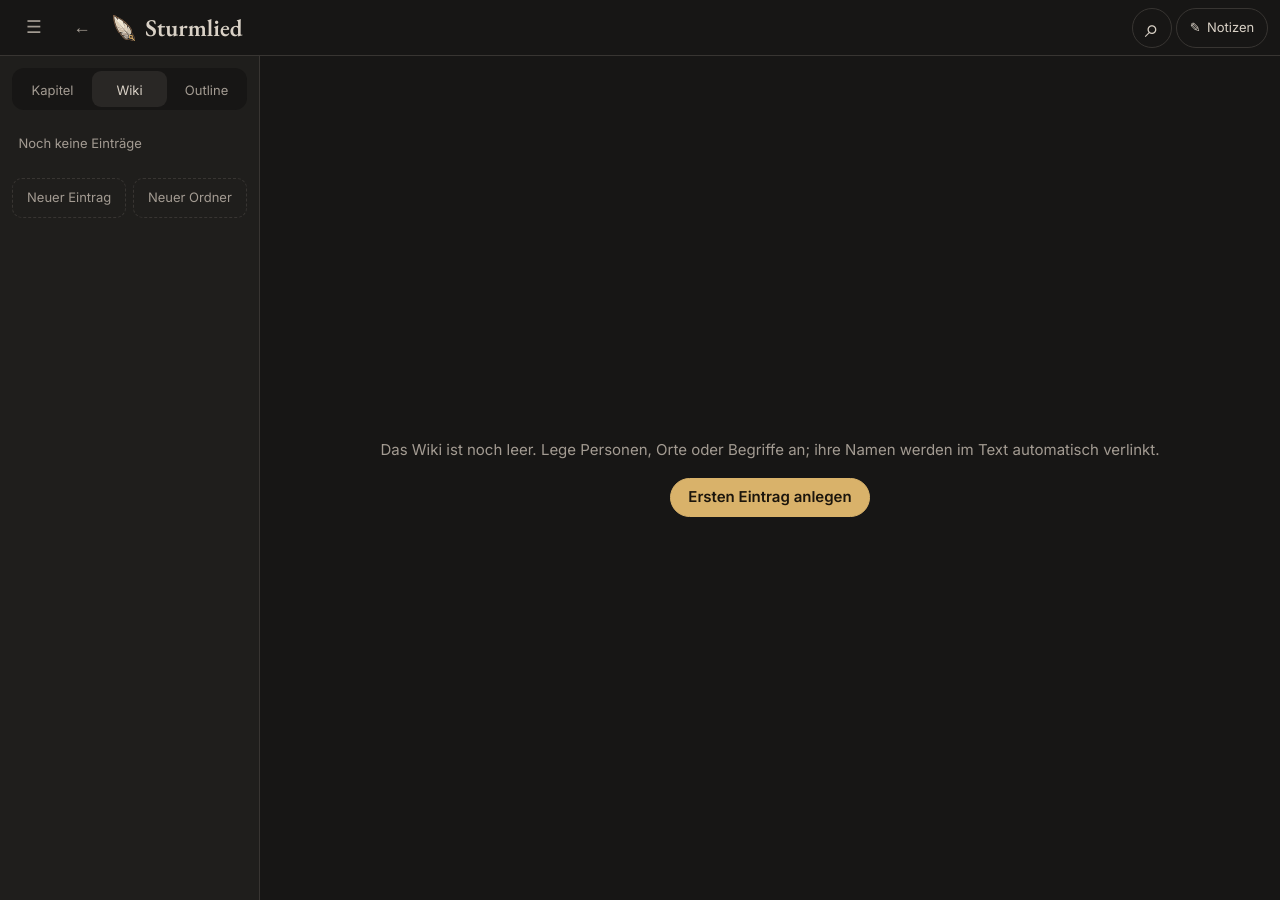
Test: wiki: folders and entries can be created from the sidebar
The image size is (1280, 900).
Click the button "Neuer Ordner".
click(190, 198)  # box left=133, top=178, right=247, bottom=218
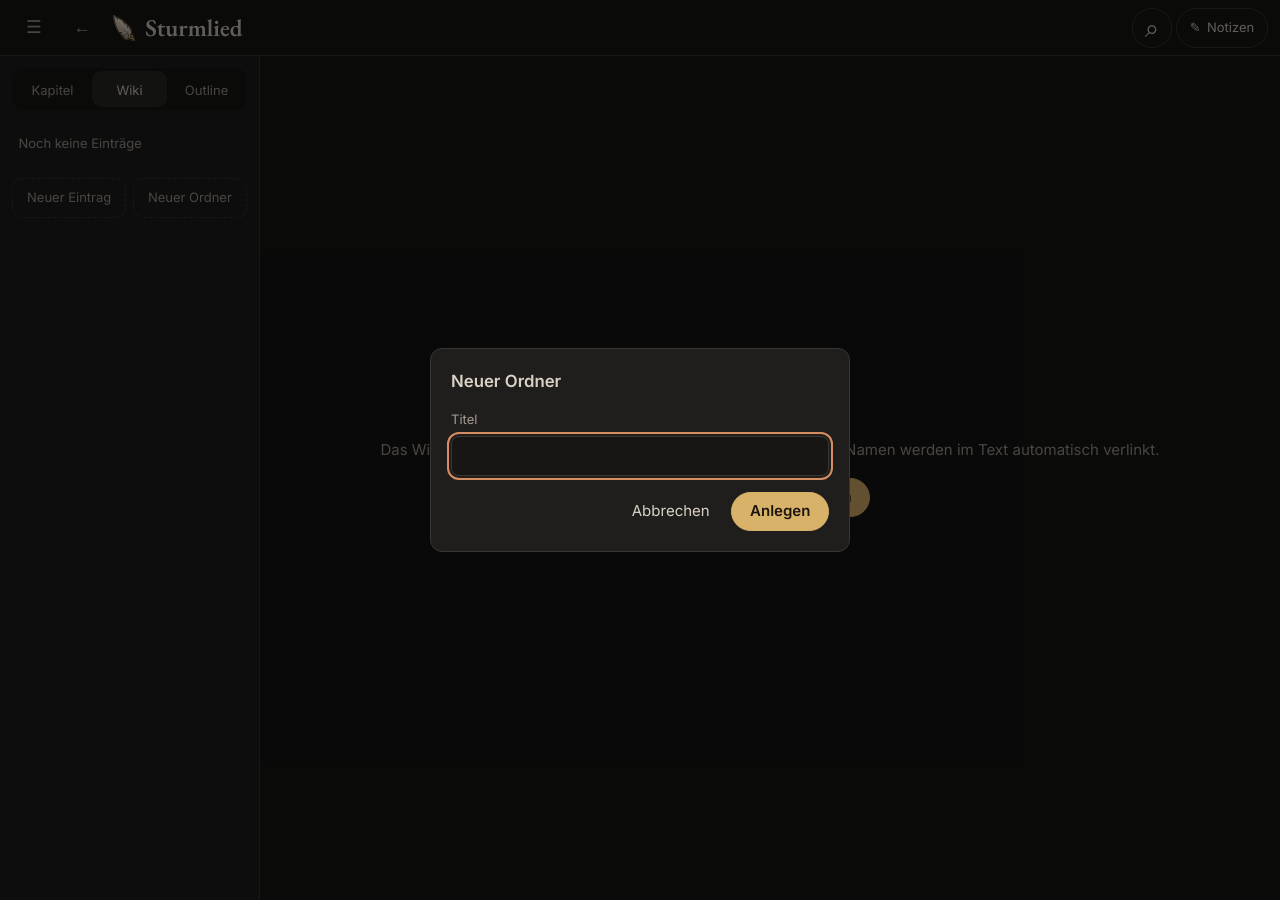
Type "Personen" into the field labelled "Titel".
click(640, 456); type("Personen")  # box left=451, top=436, right=829, bottom=476
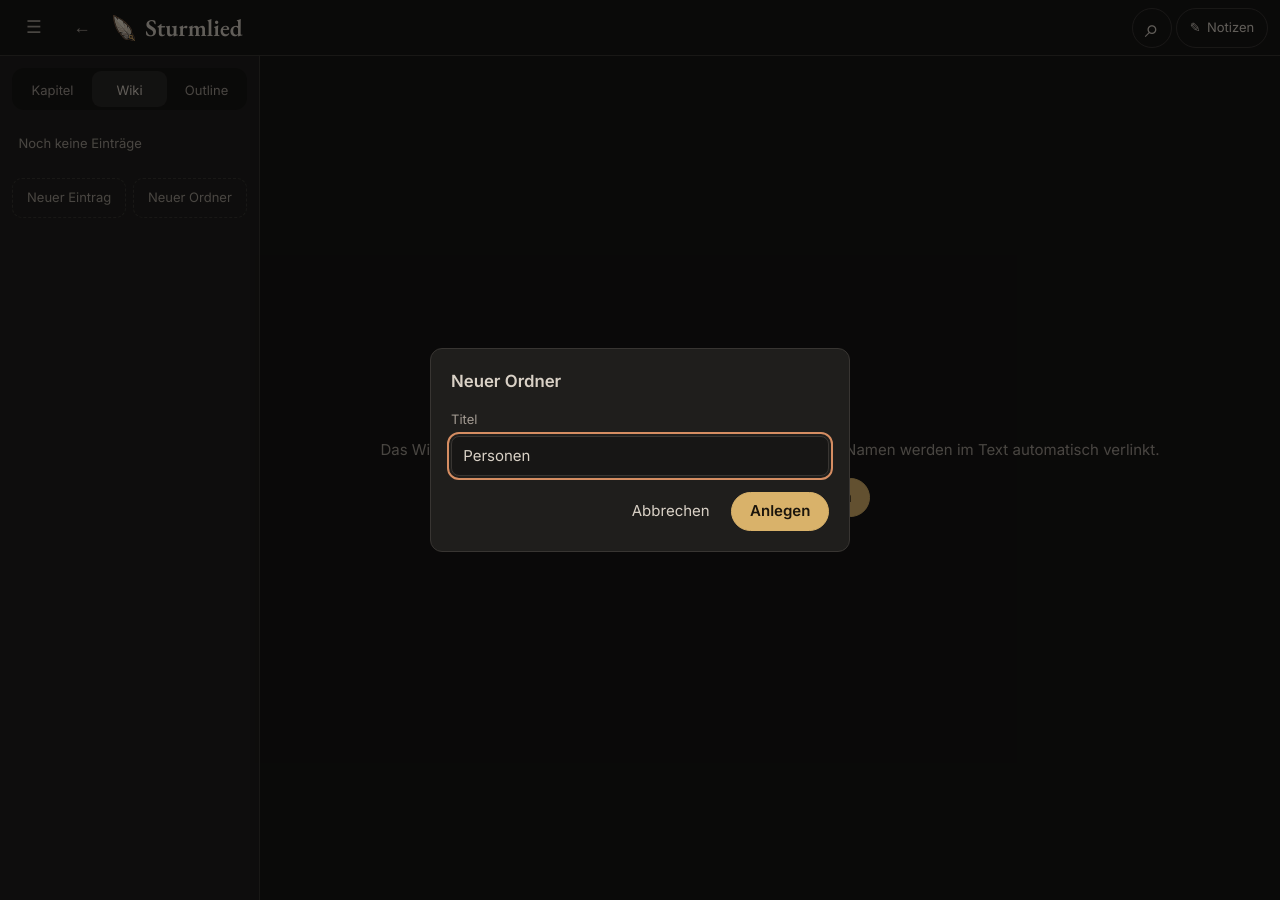
Click the button "Anlegen".
click(780, 512)  # box left=732, top=492, right=829, bottom=531
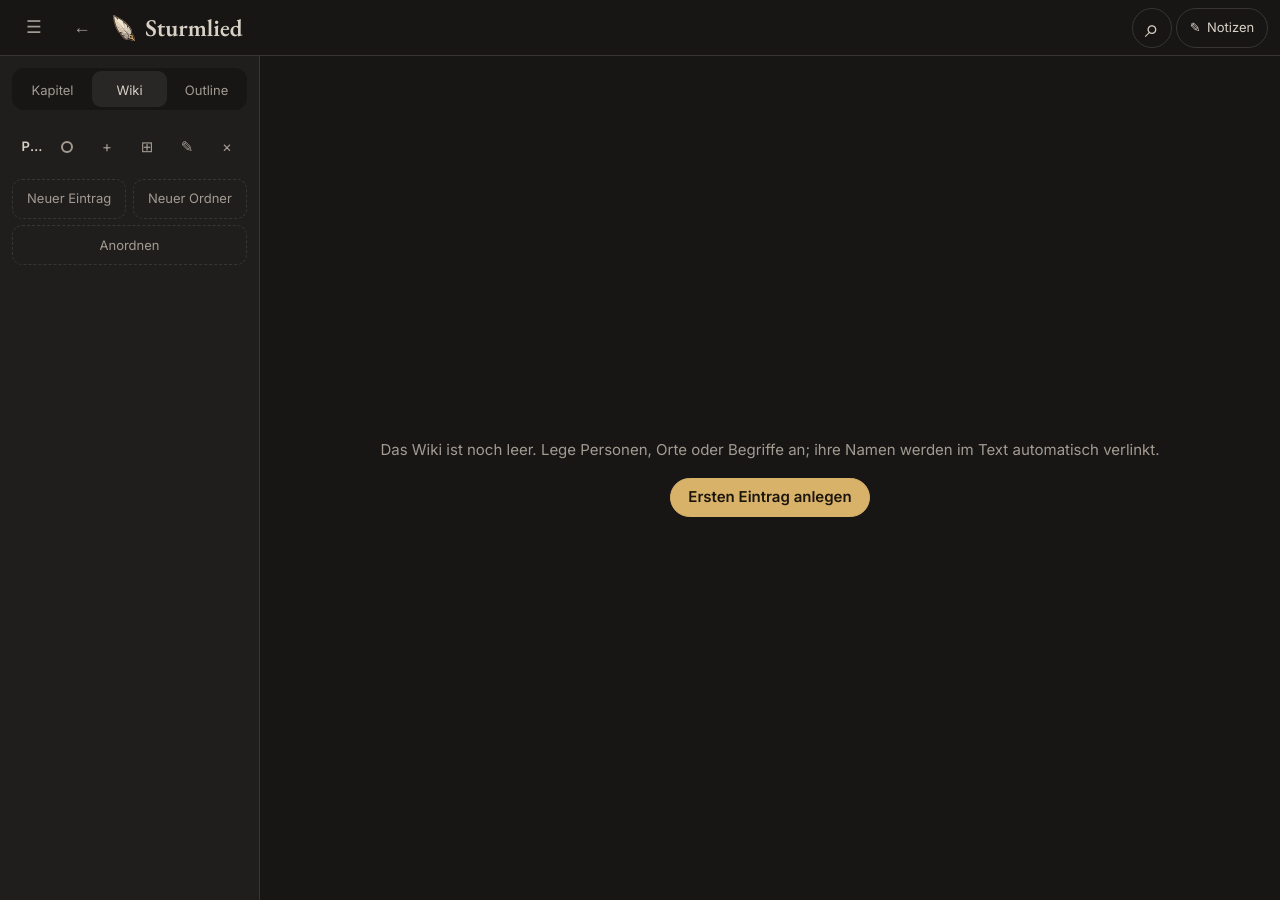
expect the text "Personen" is shown: met, box left=22, top=138, right=81, bottom=154
Click the button named "Eintrag in „Personen“ anlegen".
click(107, 147)  # box left=87, top=127, right=127, bottom=167
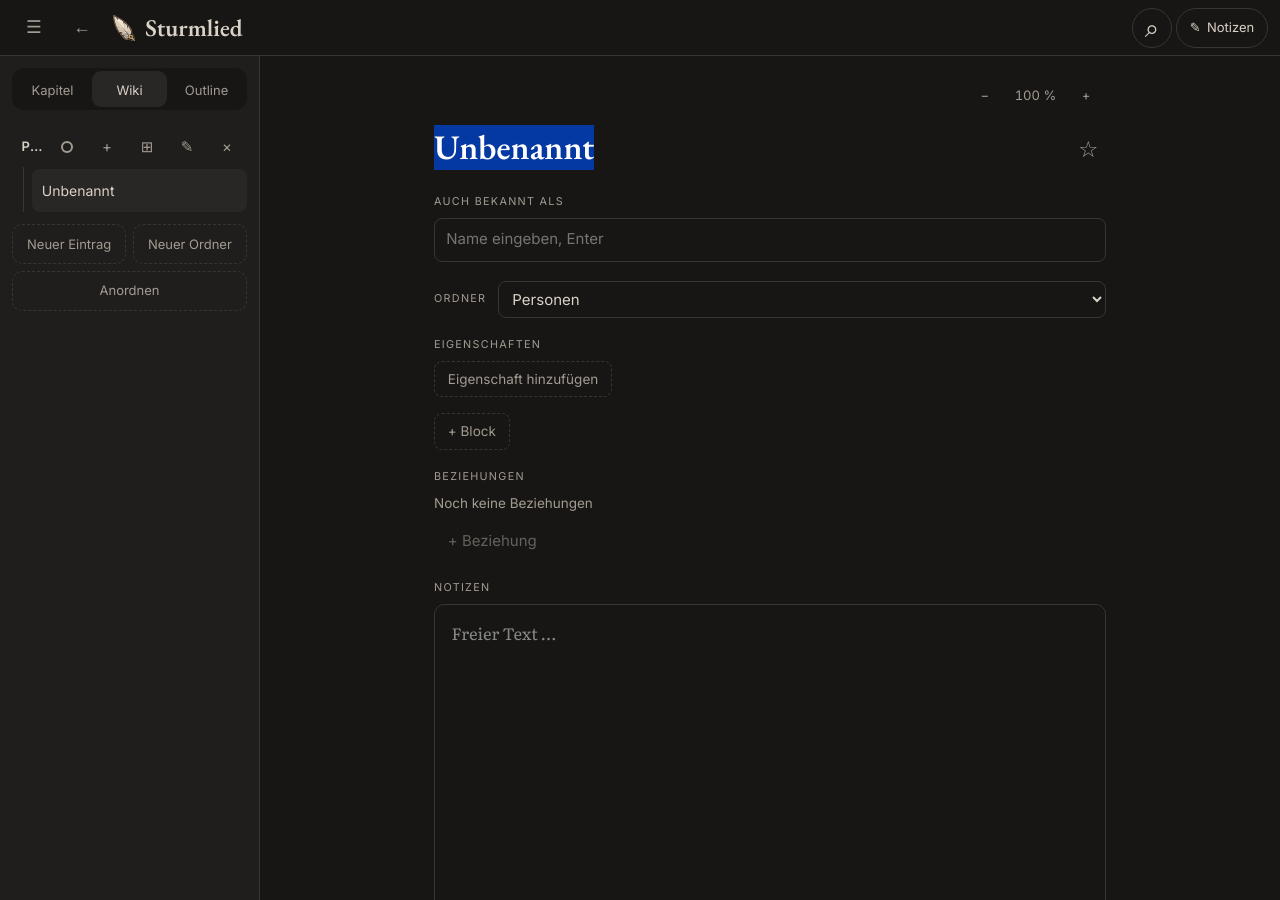
expect the field named "Name" holds "Unbenannt": met, box left=434, top=123, right=1064, bottom=174
